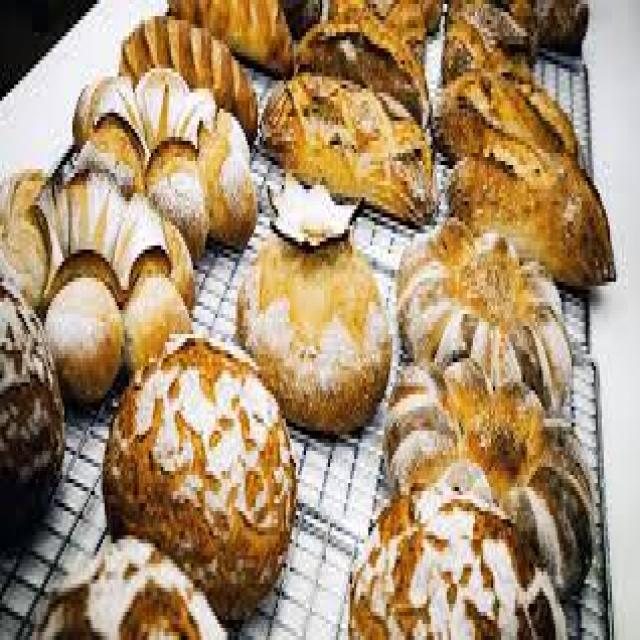organic waste: (100, 330, 294, 620), (0, 141, 193, 402), (388, 354, 592, 600), (234, 169, 392, 435), (348, 455, 564, 636), (396, 201, 572, 419), (72, 64, 254, 250), (255, 64, 432, 230), (447, 117, 614, 290), (35, 531, 224, 636), (428, 65, 582, 181), (119, 16, 254, 145), (0, 261, 62, 531), (294, 8, 429, 129), (165, 0, 292, 76), (459, 0, 586, 60), (443, 4, 533, 85), (326, 0, 439, 36)
